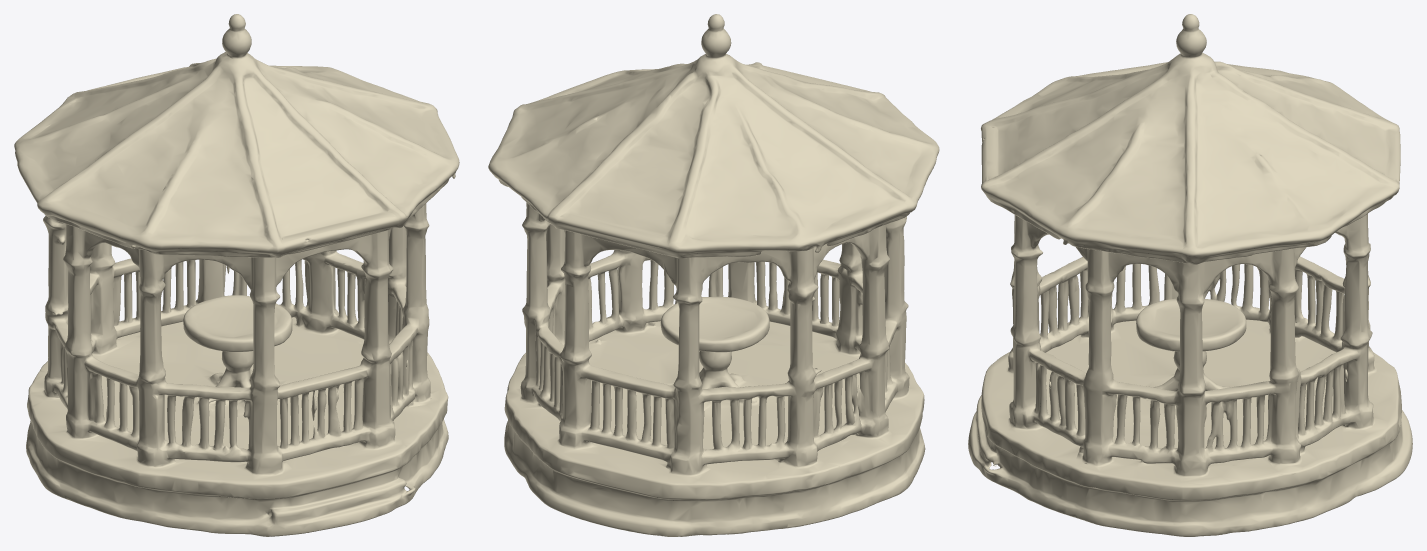
The model's file is gazebo.glb.
3 views of the same model, side by side, from view 1: azimuth 30°, elevation 25°; view 2: azimuth 150°, elevation 25°; view 3: azimuth 270°, elevation 25° (orthographic).
Parts seen in each view (by area): view 1: gazebo - original generated mesh; view 2: gazebo - original generated mesh; view 3: gazebo - original generated mesh.
Part boxes in pixels (left/top/right/bottom): gazebo - original generated mesh: left=14, top=14, right=459, bottom=536; gazebo - original generated mesh: left=488, top=14, right=939, bottom=536; gazebo - original generated mesh: left=968, top=14, right=1412, bottom=536.
Bounding box in the file's own units: 5.32 × 5.5 × 5.15.
